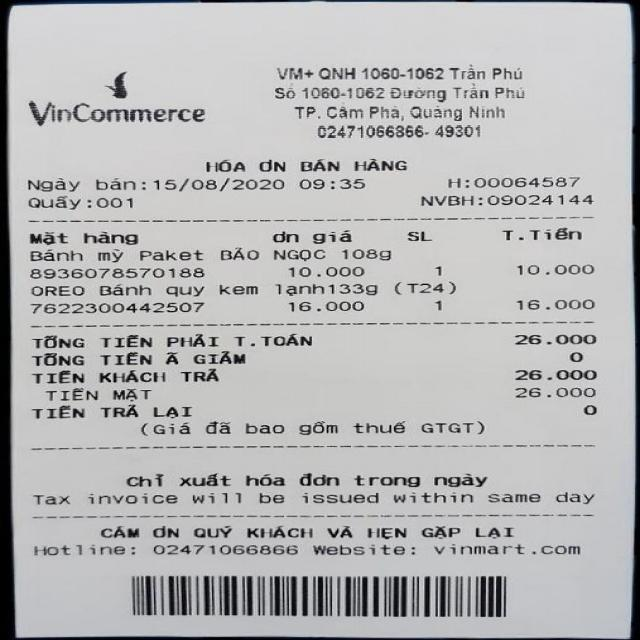Date: (148, 172, 293, 196)
Store_Name: (14, 68, 240, 135)
amount_number: (508, 326, 606, 352)
label_total: (31, 332, 316, 349)
